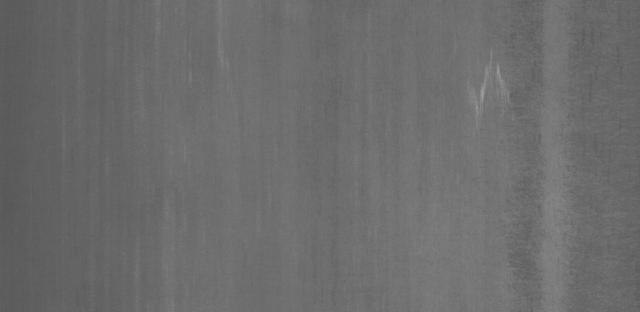silk_spot: (451, 50, 524, 136)
